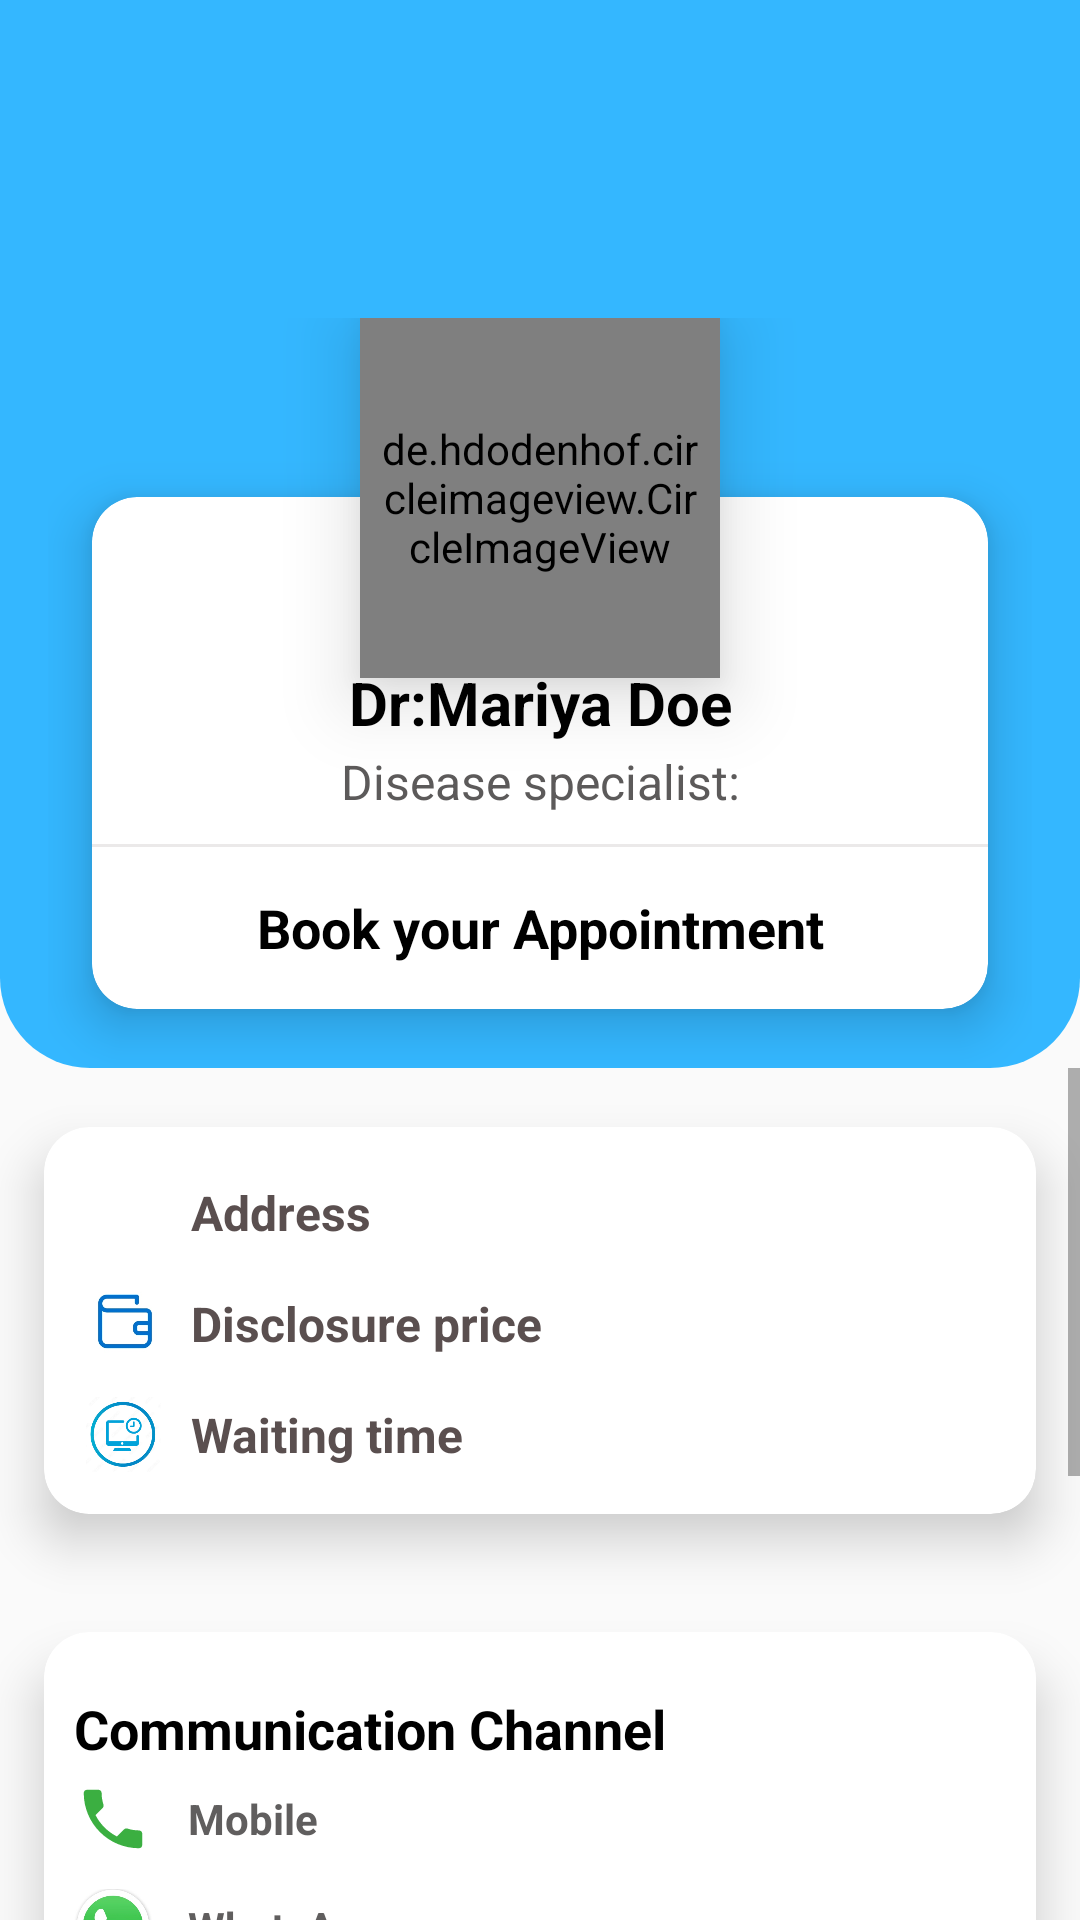

Point at icon controls on the screen. Image size 1080 × 1920, points as (x,y).
phone: (113,1819)
